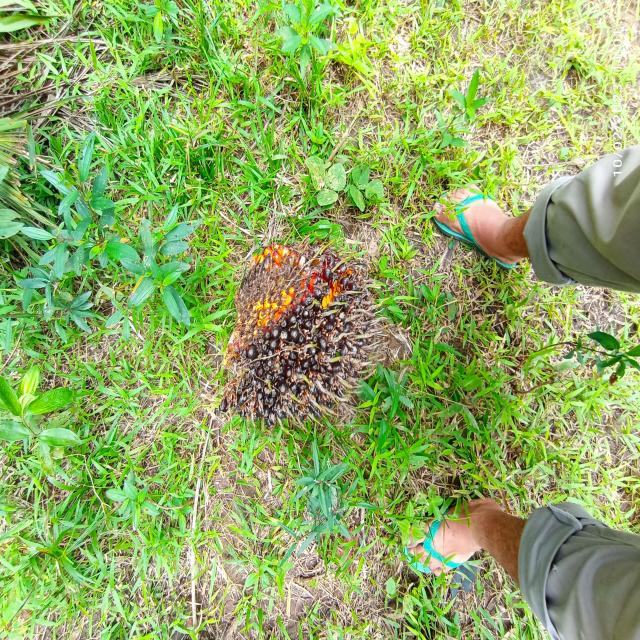fraksi 00: (215, 223, 405, 432)
